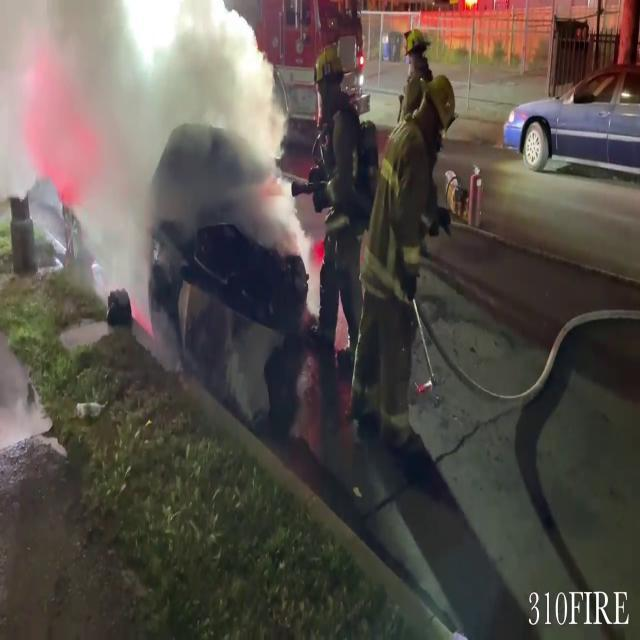Smoke: (0, 0, 298, 258)
